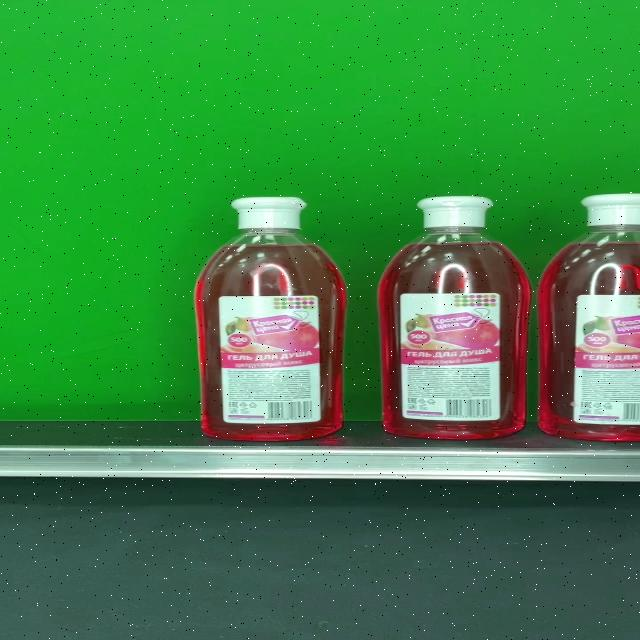Bottle: (378, 196, 530, 440), (196, 196, 346, 442)
Cap: (230, 196, 307, 230), (417, 196, 495, 228)
